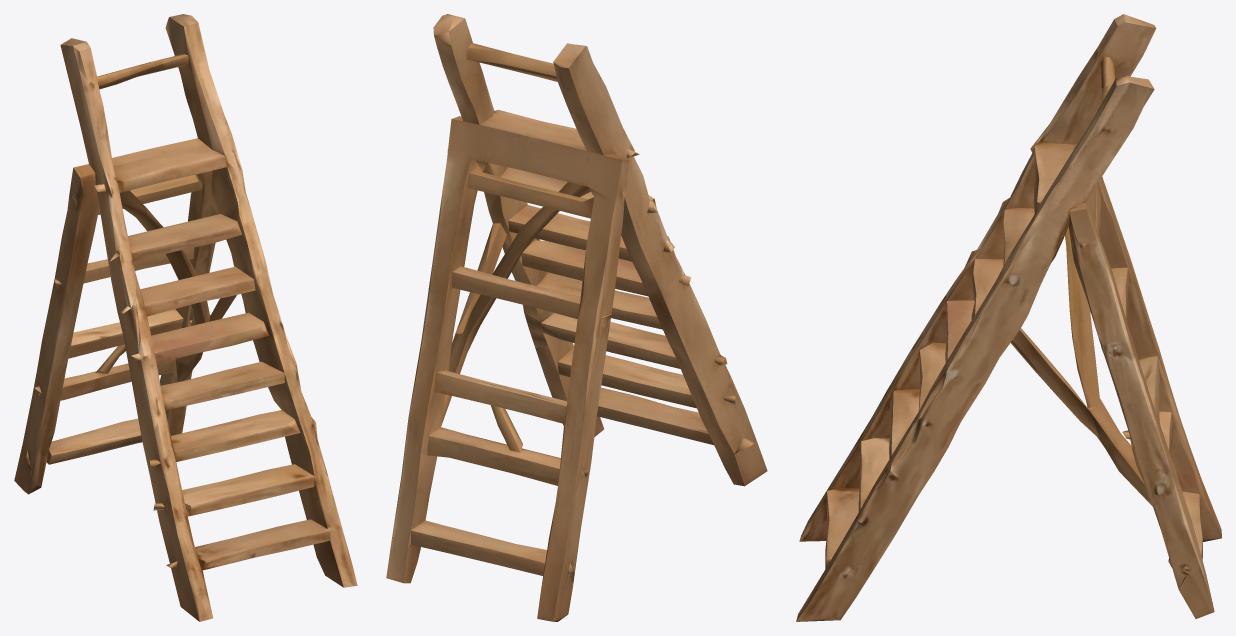
File: siegeLadder.glb
3 views of the same model, side by side, from view 1: azimuth 30°, elevation 25°; view 2: azimuth 150°, elevation 25°; view 3: azimuth 270°, elevation 25° (orthographic). The views are drawn at different scales.
Parts seen in each view (by area): view 1: model; view 2: model; view 3: model.
Boxes of the visible parts, x1,y1,x2,y2 form: model: (14, 14, 357, 621); model: (386, 14, 767, 621); model: (796, 14, 1221, 621).
Bounding box in the file's own units: 0.6999 × 1.9 × 1.38.
Materials: 1 (1 with a texture image).
